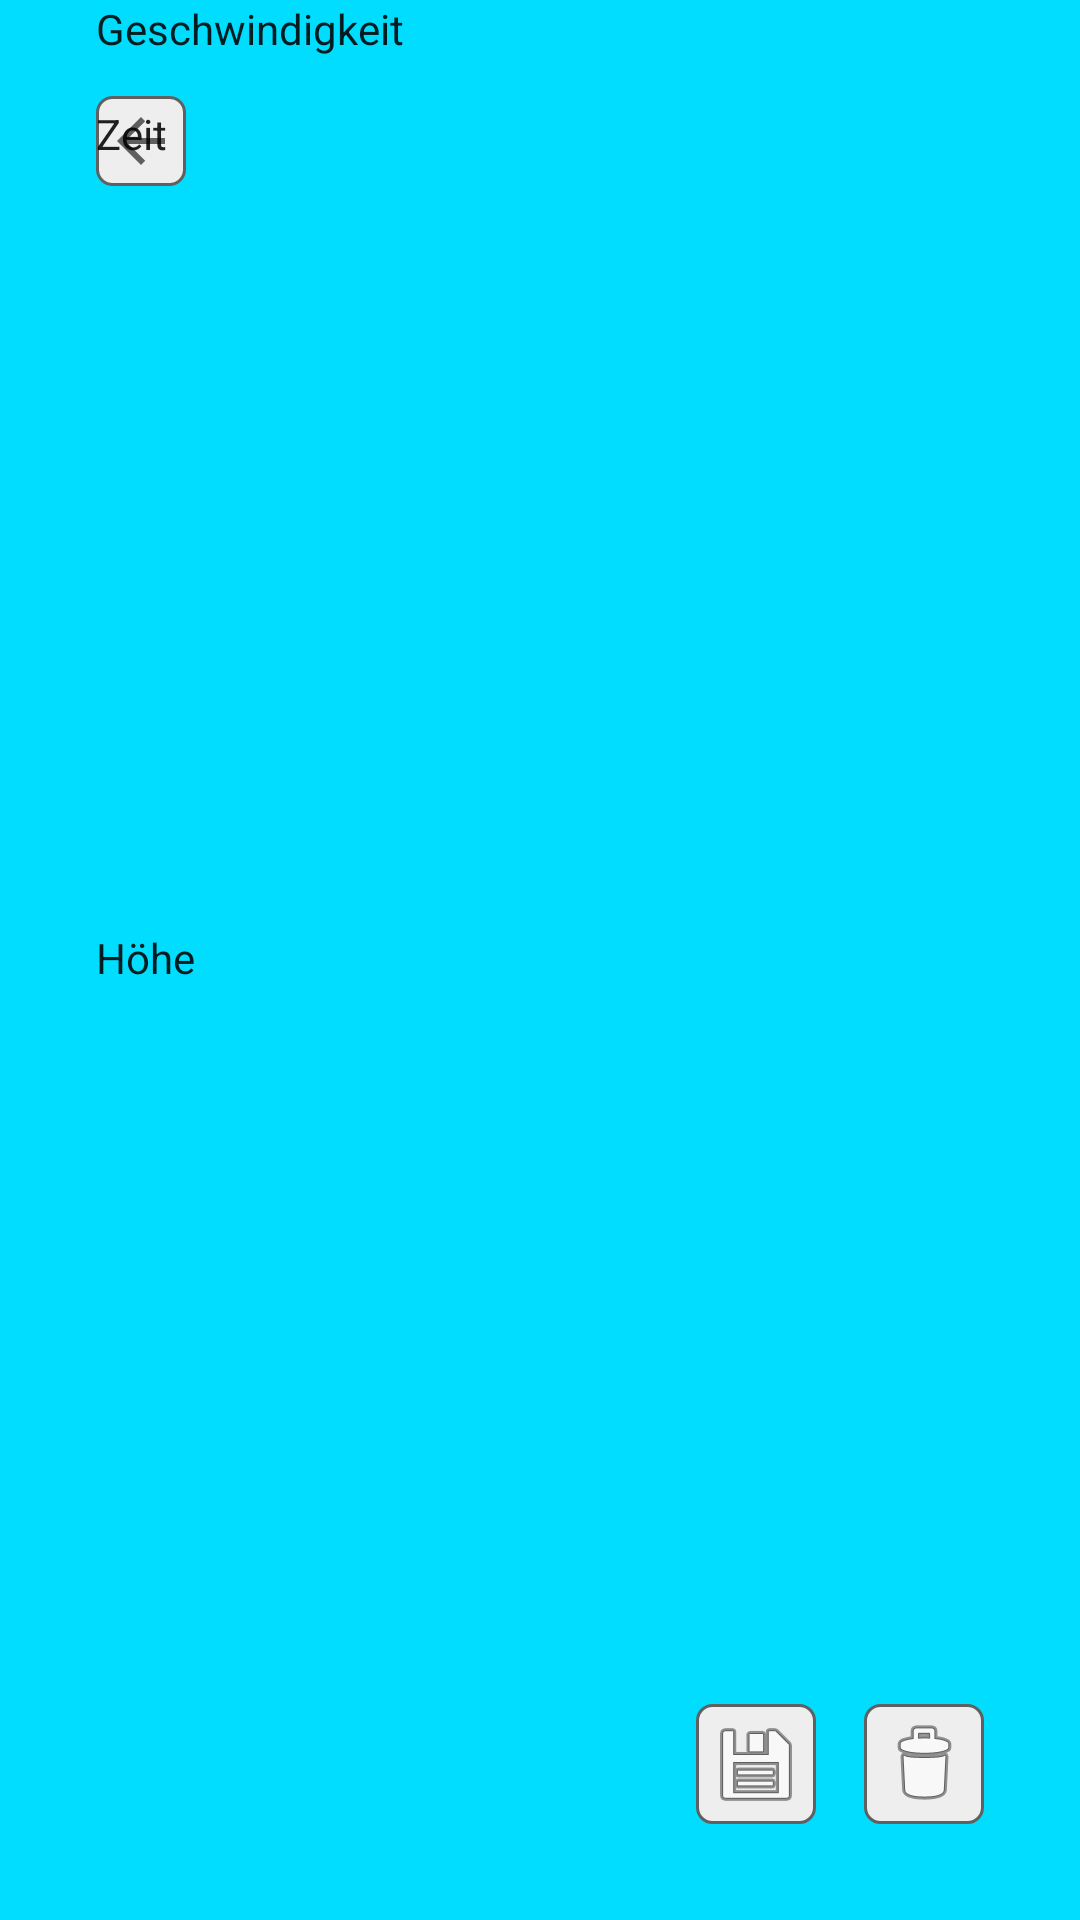

Screen size 1080*1920. Icon name, then its box in pixels as (x1, y1, x2, y2):
delete: (864, 1704, 984, 1824)
save: (696, 1704, 816, 1824)
